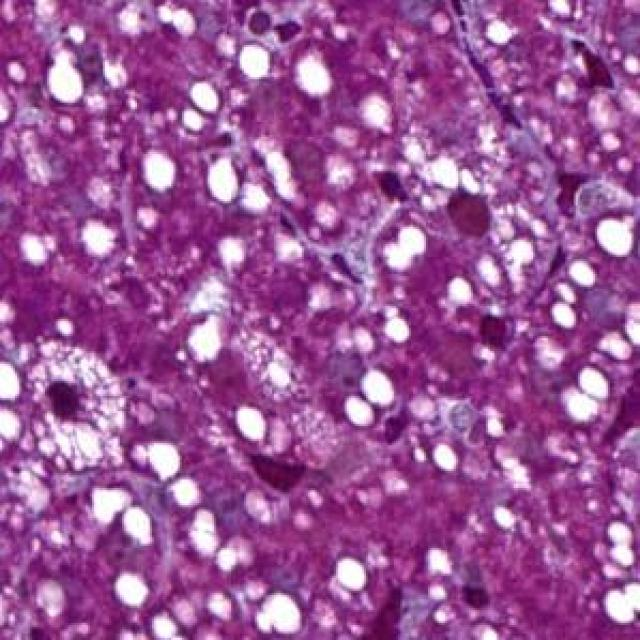ballooning: (21, 338, 133, 473)
